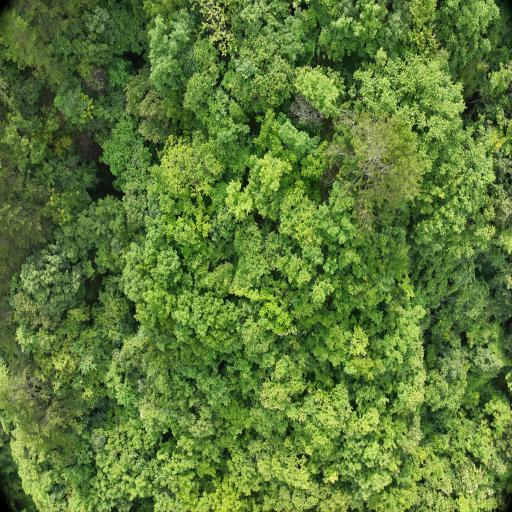dead-tree: (291, 97, 315, 125)
